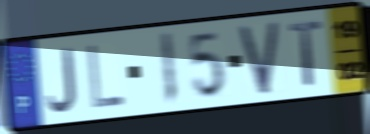5: (189, 28, 229, 101)
I: (158, 30, 179, 108)
J: (45, 46, 79, 114)
L: (86, 42, 127, 111)
T: (287, 18, 325, 89)
V: (237, 18, 282, 98)
